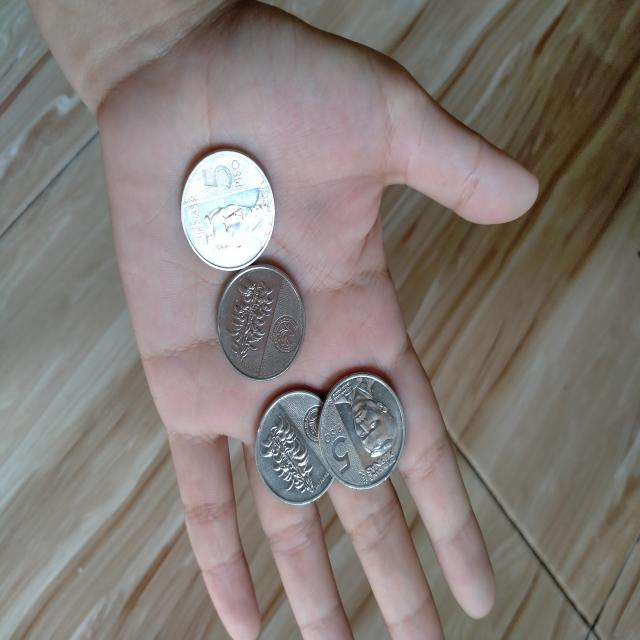5_New_Back: (254, 415, 315, 504), (226, 274, 278, 373)
5_New_Front: (316, 418, 361, 484), (195, 148, 251, 200)
